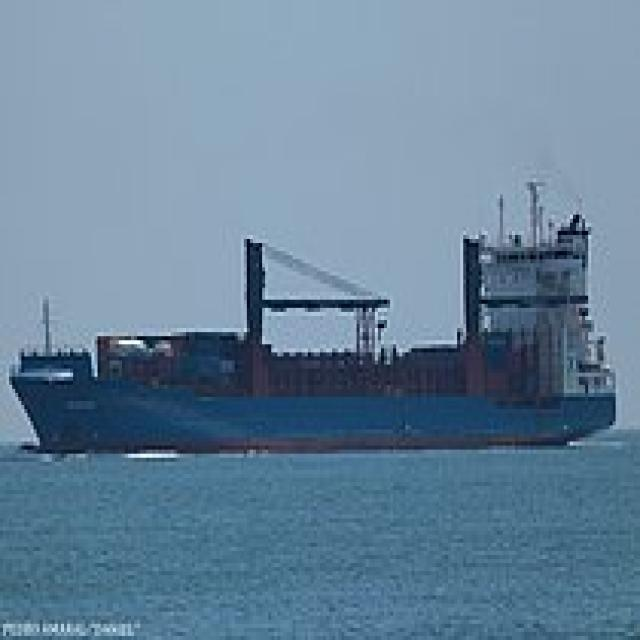Cargo: (3, 170, 616, 454)
